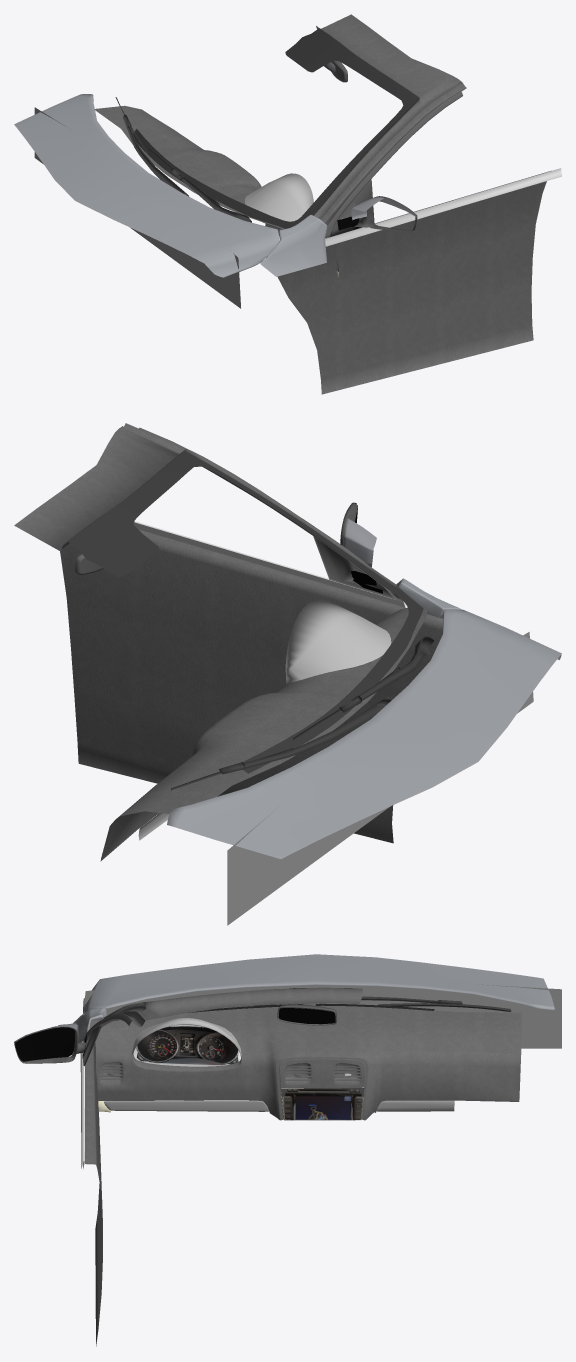
The model's file is modle.fbx.
3 views of the same model, one above another, from view 1: azimuth 30°, elevation 25°; view 2: azimuth 150°, elevation 25°; view 3: azimuth 270°, elevation 25° (orthographic). The views are drawn at different scales.
Parts seen in each view (by area): view 1: polySurface13, hood, interior, interior windshield, polySurface19, fender, polyToSubd3, polySurface5, pCube2, _polySurface1, polySurface6, polySurface42; view 2: polySurface13, hood, polySurface19, interior windshield, interior, polyToSubd3, pCube2, _polySurface1, polySurface5, polySurface42, polySurface39, fender (+1 smaller); view 3: polySurface19, hood, pCube2, interior, instrument panel, polySurface14, polySurface13, _polySurface1, polyToSubd1, polySurface17, salon mirror, polySurface16 (+4 smaller).
Boxes of the visible parts, <box> form: polySurface13: <box>277,170,551,394</box>; hood: <box>14,94,279,277</box>; interior: <box>312,14,466,224</box>; interior windshield: <box>133,28,419,229</box>; polySurface19: <box>95,105,338,271</box>; fender: <box>259,215,327,276</box>; polyToSubd3: <box>245,173,313,221</box>; polySurface5: <box>325,168,561,246</box>; pCube2: <box>34,107,240,308</box>; _polySurface1: <box>330,179,417,236</box>; polySurface6: <box>325,90,462,237</box>; polySurface42: <box>126,124,188,196</box>; polySurface13: <box>60,529,443,843</box>; hood: <box>167,609,561,858</box>; polySurface19: <box>100,607,427,861</box>; interior windshield: <box>68,451,423,773</box>; interior: <box>14,423,400,590</box>; polyToSubd3: <box>285,600,391,683</box>; pCube2: <box>227,632,533,925</box>; _polySurface1: <box>313,502,393,598</box>; polySurface5: <box>133,521,406,607</box>; polySurface42: <box>238,697,393,769</box>; polySurface39: <box>351,636,434,704</box>; fender: <box>397,578,461,618</box>; polySurface19: <box>96,1005,521,1120</box>; hood: <box>83,954,554,1014</box>; pCube2: <box>81,984,561,1048</box>; interior: <box>89,987,362,1029</box>; instrument panel: <box>133,1025,240,1066</box>; polySurface14: <box>281,1088,364,1120</box>; polySurface13: <box>85,1023,102,1346</box>; _polySurface1: <box>14,1023,102,1065</box>; polyToSubd1: <box>280,1059,365,1088</box>; polySurface17: <box>103,1100,268,1111</box>; salon mirror: <box>277,1003,336,1025</box>; polySurface16: <box>376,1100,454,1111</box>.
Bounding box in the file's own units: 32.07 × 20.85 × 33.68.
